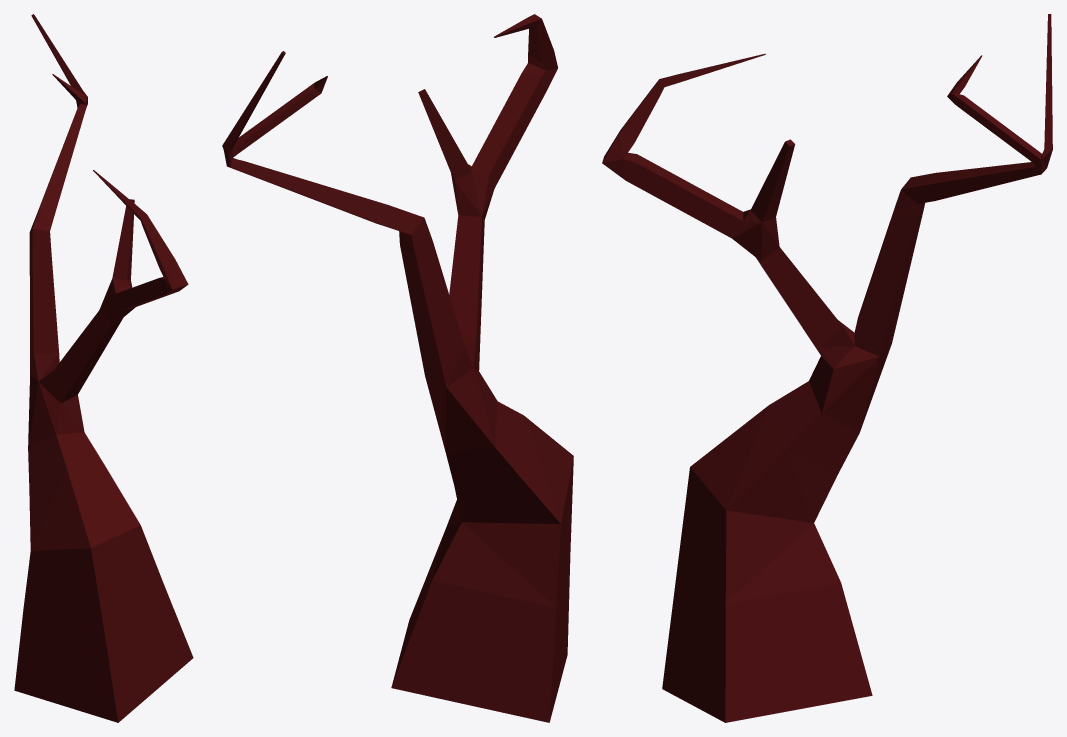
Rendered from lowpolydeadtree.obj.
3 views of the same model, side by side, from view 1: azimuth 30°, elevation 25°; view 2: azimuth 150°, elevation 25°; view 3: azimuth 270°, elevation 25° (orthographic). The views are drawn at different scales.
Parts seen in each view (by area): view 1: Cube; view 2: Cube; view 3: Cube.
Part boxes in pixels (box(x1,y1,x2,y2)): Cube: box(14, 14, 193, 722); Cube: box(222, 14, 573, 722); Cube: box(602, 14, 1052, 722).
Bounding box in the file's own units: 0.4707 × 1.56 × 0.8857.
